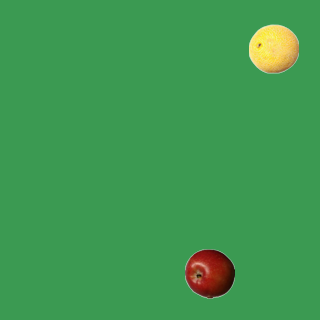Apple Braeburn: (184, 248, 234, 298)
Cantaloupe 1: (248, 23, 298, 73)
